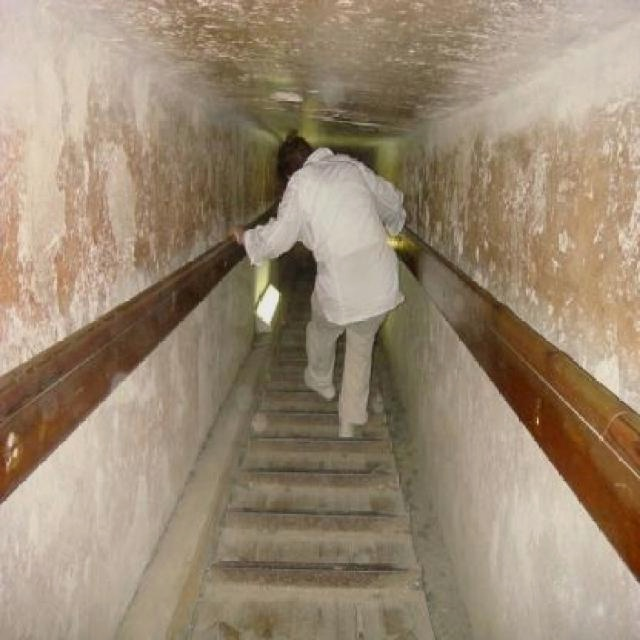stair: (180, 258, 437, 638)
